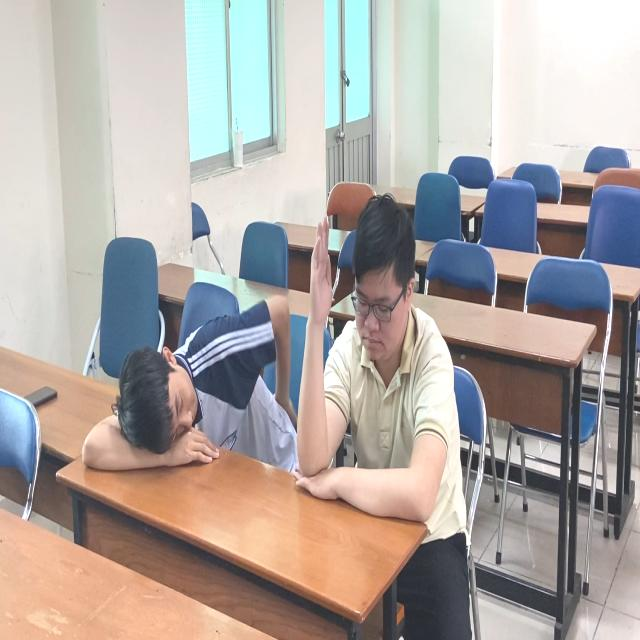raise_hand: (294, 194, 455, 524)
sleep: (84, 276, 287, 493)
